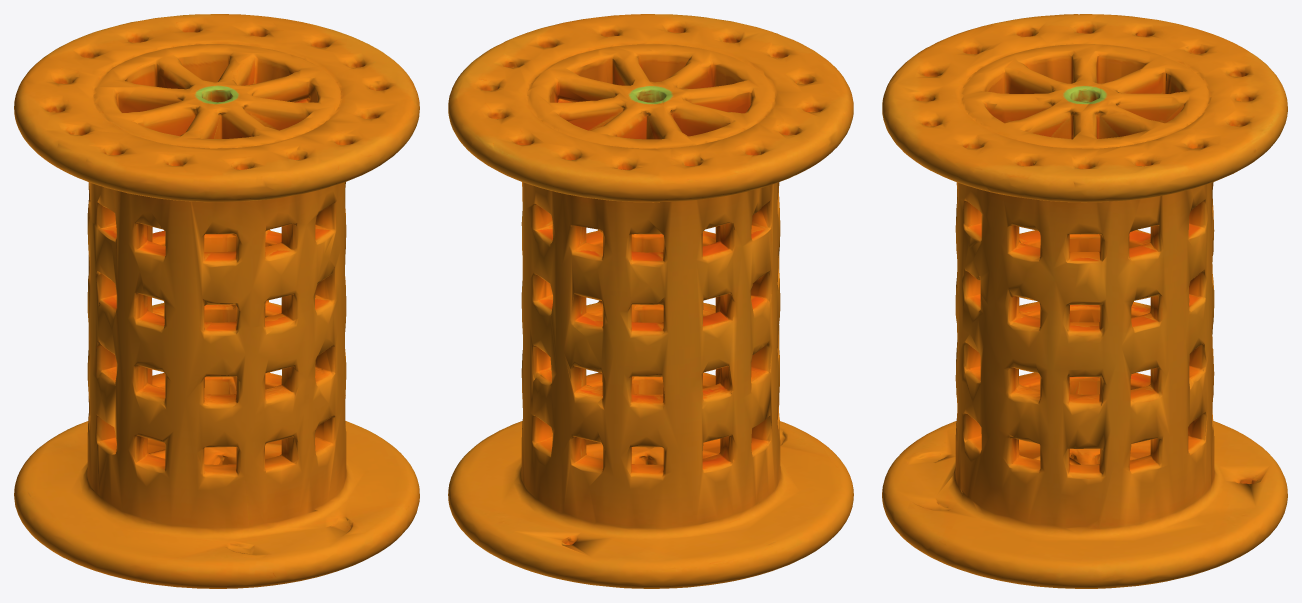
File: bobin.glb
3 views of the same model, side by side, from view 1: azimuth 30°, elevation 25°; view 2: azimuth 150°, elevation 25°; view 3: azimuth 270°, elevation 25° (orthographic).
Visible parts, largest first — view 1: Mesh_0; view 2: Mesh_0; view 3: Mesh_0.
Boxes of the visible parts, left/top/right/bottom form: Mesh_0: left=14, top=14, right=419, bottom=588; Mesh_0: left=448, top=14, right=853, bottom=588; Mesh_0: left=882, top=14, right=1287, bottom=588.
Size of the model in its own units: 1.7 by 1.91 by 1.7.
1 material, 1 textured.
